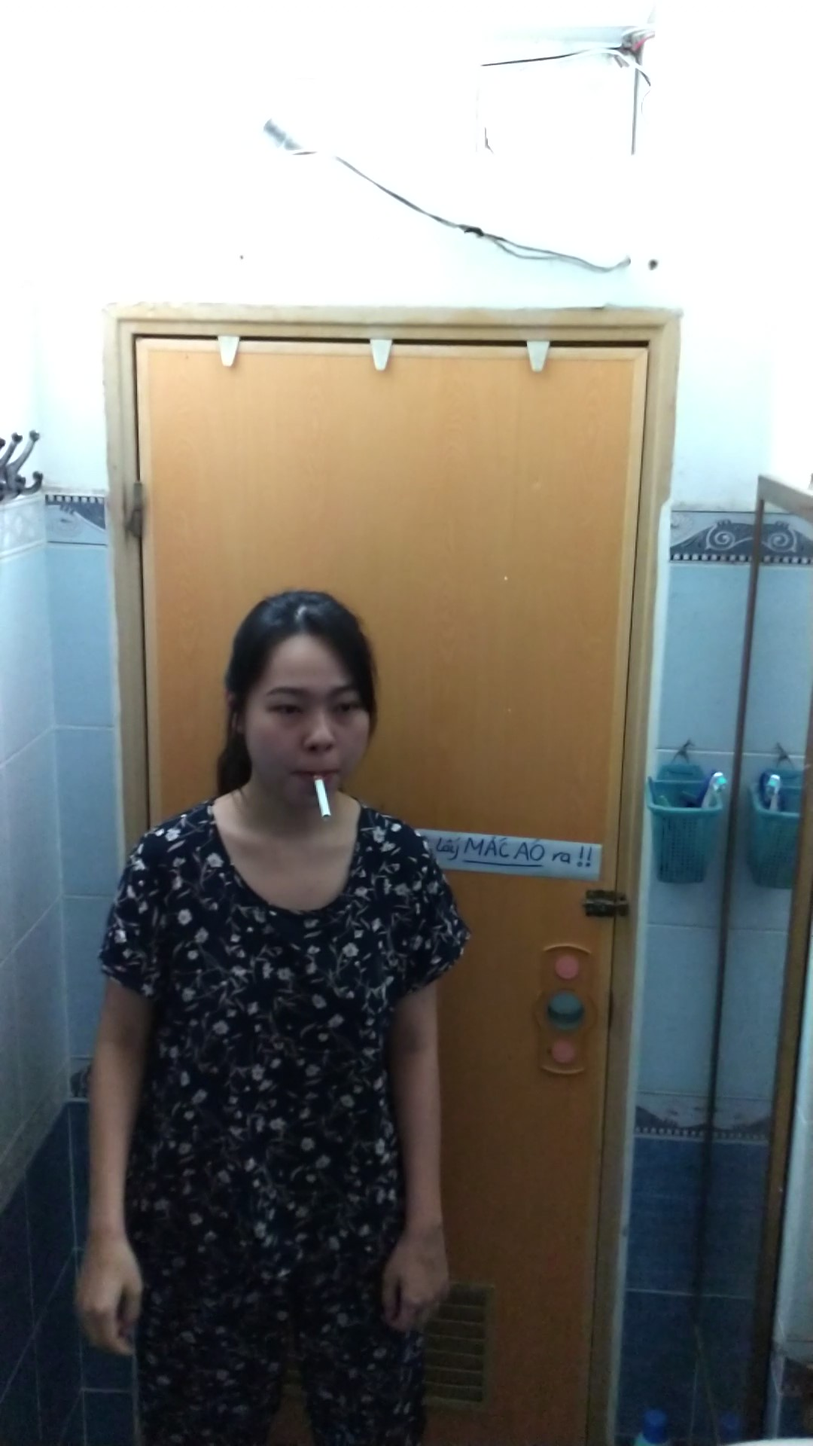cigarette: (306, 771, 335, 825)
person: (78, 577, 475, 1446)
